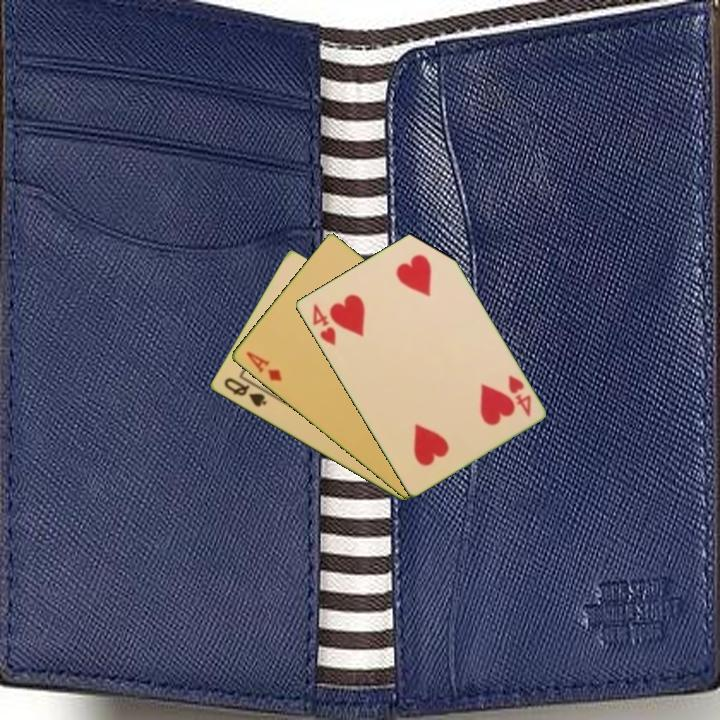4h: (308, 300, 339, 348), (504, 371, 534, 420)
Ad: (242, 348, 284, 384)
Qs: (220, 374, 270, 410)
